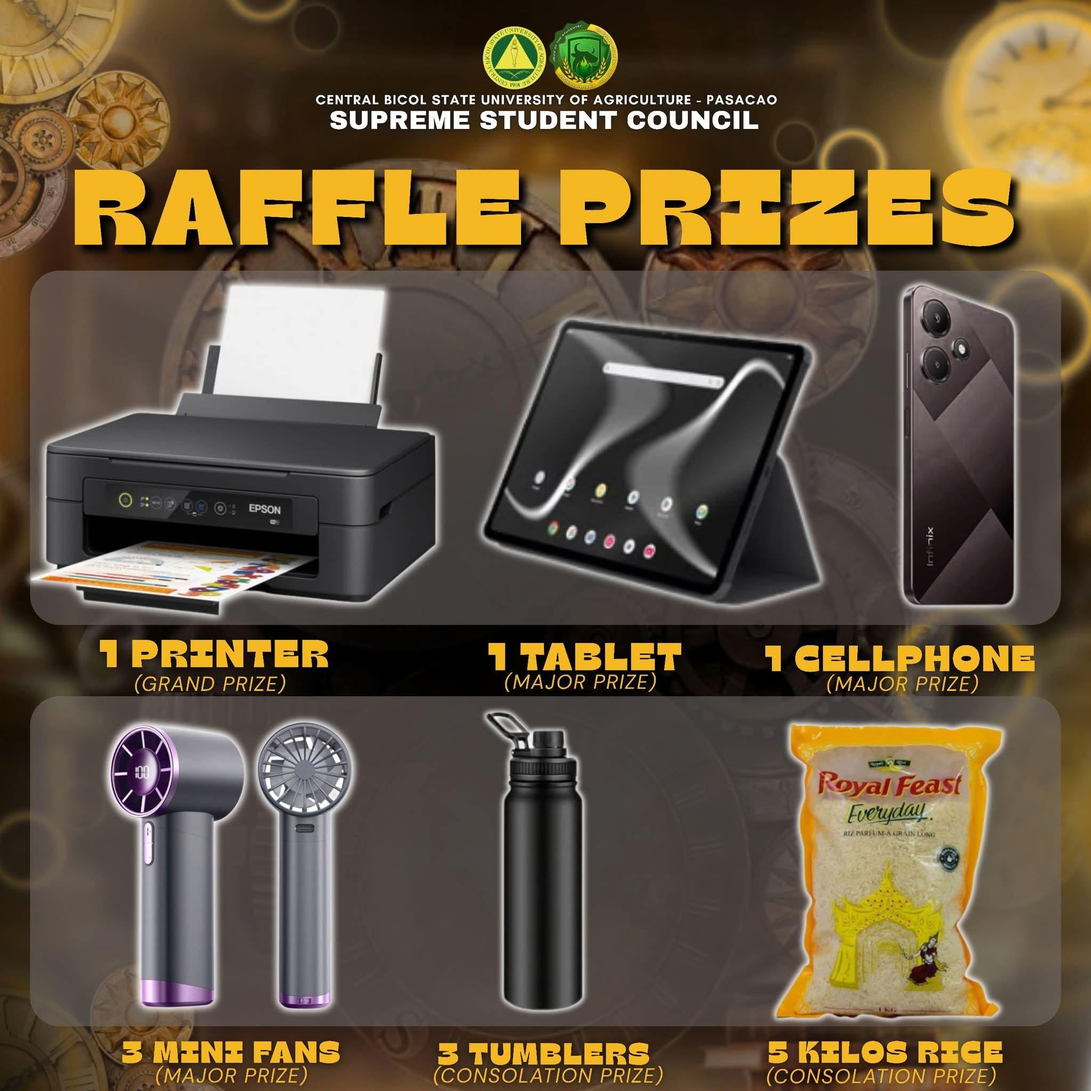embellishment: (31, 278, 443, 621), (475, 315, 827, 613), (766, 719, 1010, 1025), (104, 722, 250, 1016), (895, 278, 1022, 610), (479, 702, 590, 1017), (253, 718, 361, 1012)
logo: (548, 17, 622, 93), (481, 20, 550, 96)
text: (66, 153, 1033, 259), (313, 89, 785, 135), (759, 636, 1043, 694), (95, 633, 332, 694), (764, 1036, 1008, 1090), (430, 1036, 667, 1089), (482, 635, 686, 694), (118, 1035, 344, 1088)
underlay: (29, 270, 1061, 630), (30, 696, 1062, 1027)
